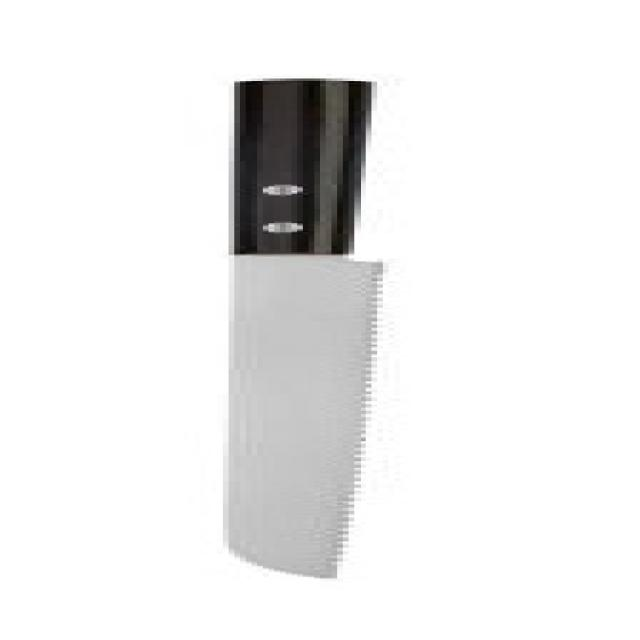knife: (172, 74, 428, 584)
